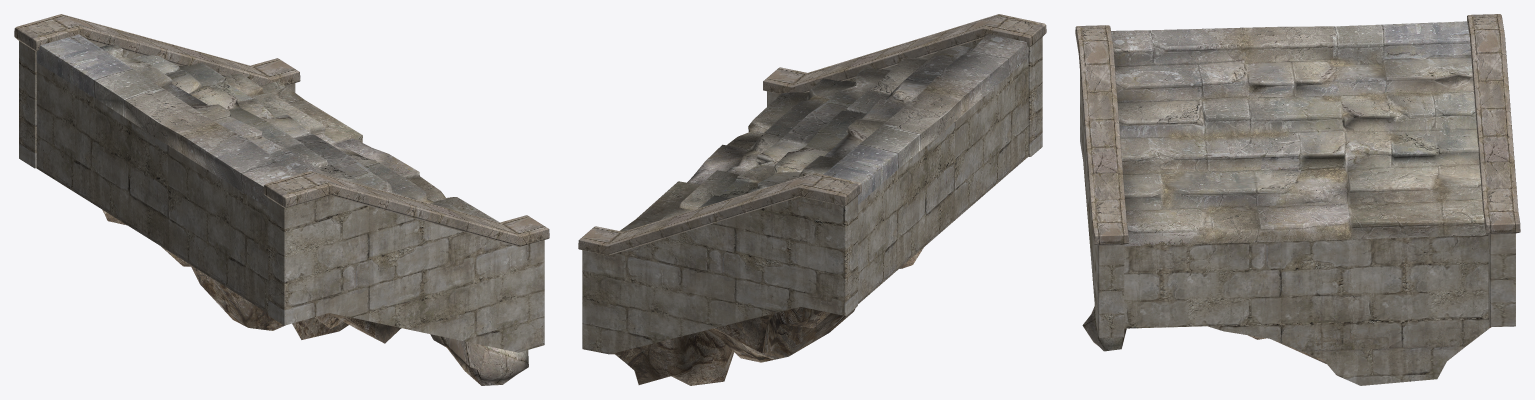
The model's file is Stair3.fbx.
3 views of the same model, side by side, from view 1: azimuth 30°, elevation 25°; view 2: azimuth 150°, elevation 25°; view 3: azimuth 270°, elevation 25° (orthographic). The views are drawn at different scales.
Parts seen in each view (by area): view 1: DG_K11_Shared_M07_Stair01_SM_SVR; view 2: DG_K11_Shared_M07_Stair01_SM_SVR; view 3: DG_K11_Shared_M07_Stair01_SM_SVR.
Part boxes in pixels (left/top/right/bottom): DG_K11_Shared_M07_Stair01_SM_SVR: left=14, top=14, right=549, bottom=385; DG_K11_Shared_M07_Stair01_SM_SVR: left=578, top=14, right=1046, bottom=385; DG_K11_Shared_M07_Stair01_SM_SVR: left=1075, top=14, right=1520, bottom=385.
Bounding box in the file's own units: 0.8847 × 0.8536 × 1.28.
Materials: 4 (4 with a texture image).
